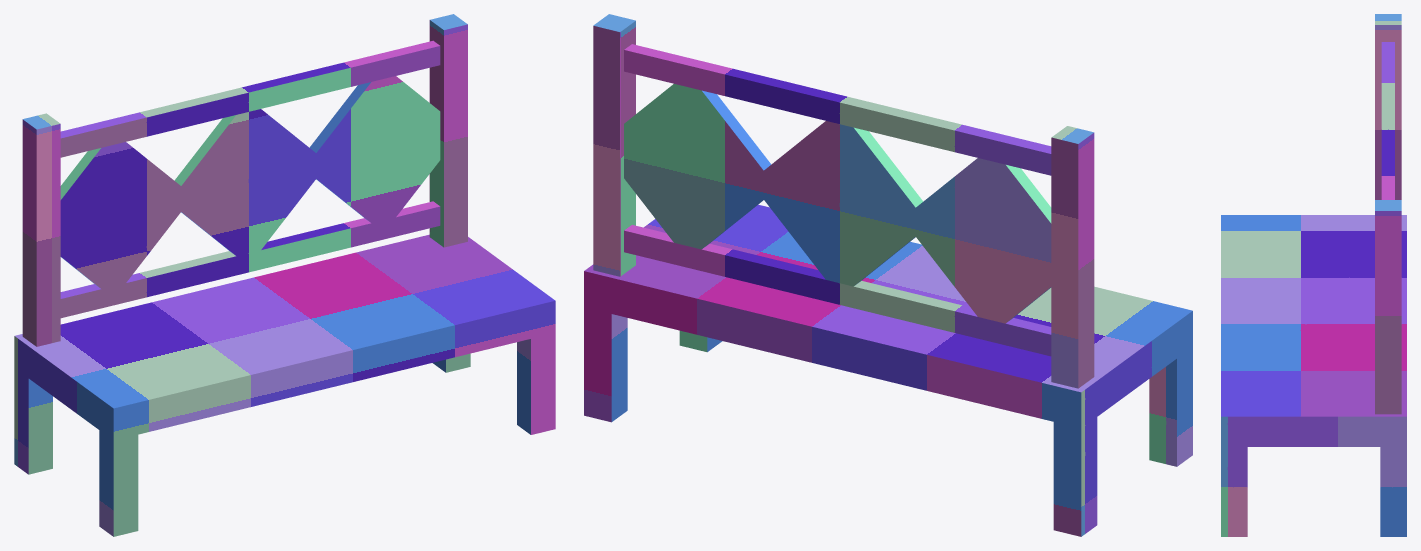
Rendered from rmk_blu_chairL_jwl.dae.
3 renders of one model, left to right at view 1: azimuth 30°, elevation 25°; view 2: azimuth 150°, elevation 25°; view 3: azimuth 270°, elevation 25°, orthographic. The views are drawn at different scales.
Parts seen in each view (by area): view 1: rmk_blu_chairL_jwl; view 2: rmk_blu_chairL_jwl; view 3: rmk_blu_chairL_jwl.
Part boxes in pixels (bbox=[...]): rmk_blu_chairL_jwl: bbox=[14, 14, 555, 536]; rmk_blu_chairL_jwl: bbox=[584, 14, 1192, 536]; rmk_blu_chairL_jwl: bbox=[1221, 14, 1406, 536].
Size of the model in its own units: 57.6 by 43.07 by 22.4.
1 material, 1 textured.
